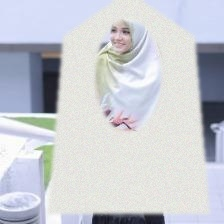Mukena: (48, 0, 209, 214)
